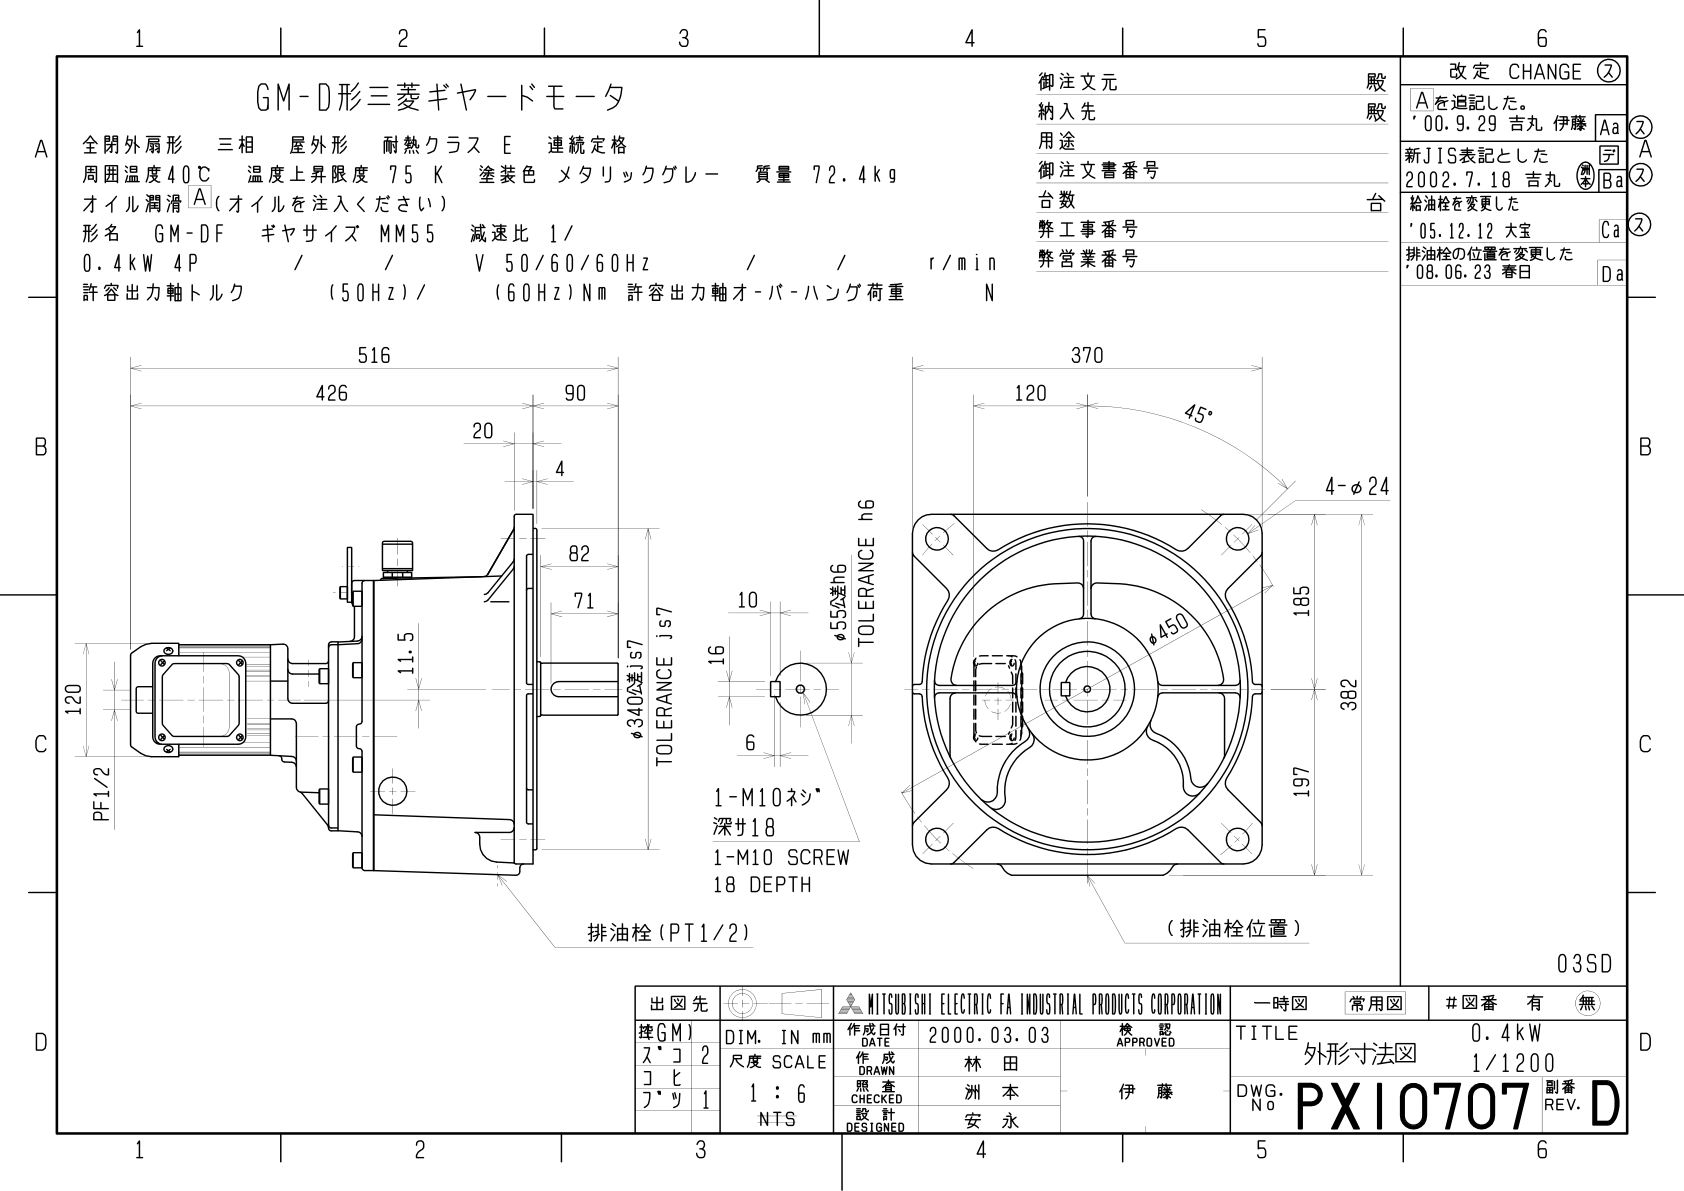GM_D_屋外＿三相_フランジ: (58, 331, 1395, 969)
